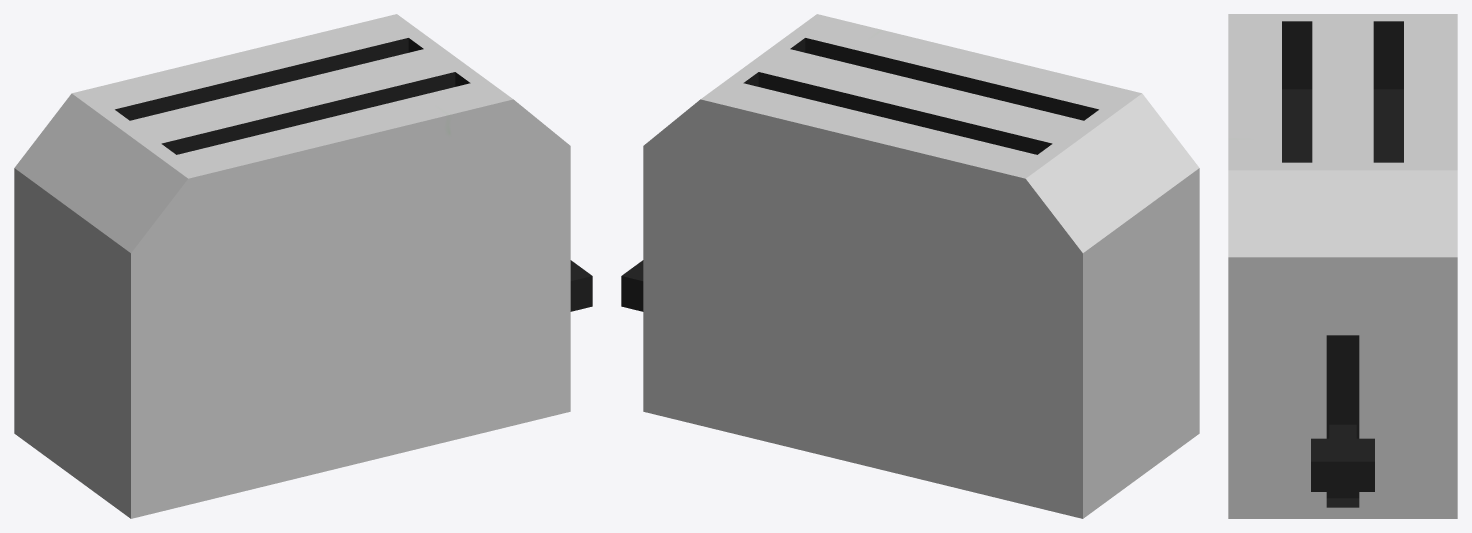
The model's file is toaster1_PLY.fbx.
3 views of the same model, side by side, from view 1: azimuth 30°, elevation 25°; view 2: azimuth 150°, elevation 25°; view 3: azimuth 270°, elevation 25° (orthographic).
Parts seen in each view (by area): view 1: toaster1_PLY; view 2: toaster1_PLY; view 3: toaster1_PLY.
Part boxes in pixels (bbox=[...]): toaster1_PLY: bbox=[14, 14, 592, 518]; toaster1_PLY: bbox=[621, 14, 1199, 518]; toaster1_PLY: bbox=[1228, 14, 1457, 518].
Bounding box in the file's own units: 1.51 × 0.9352 × 0.6059.
